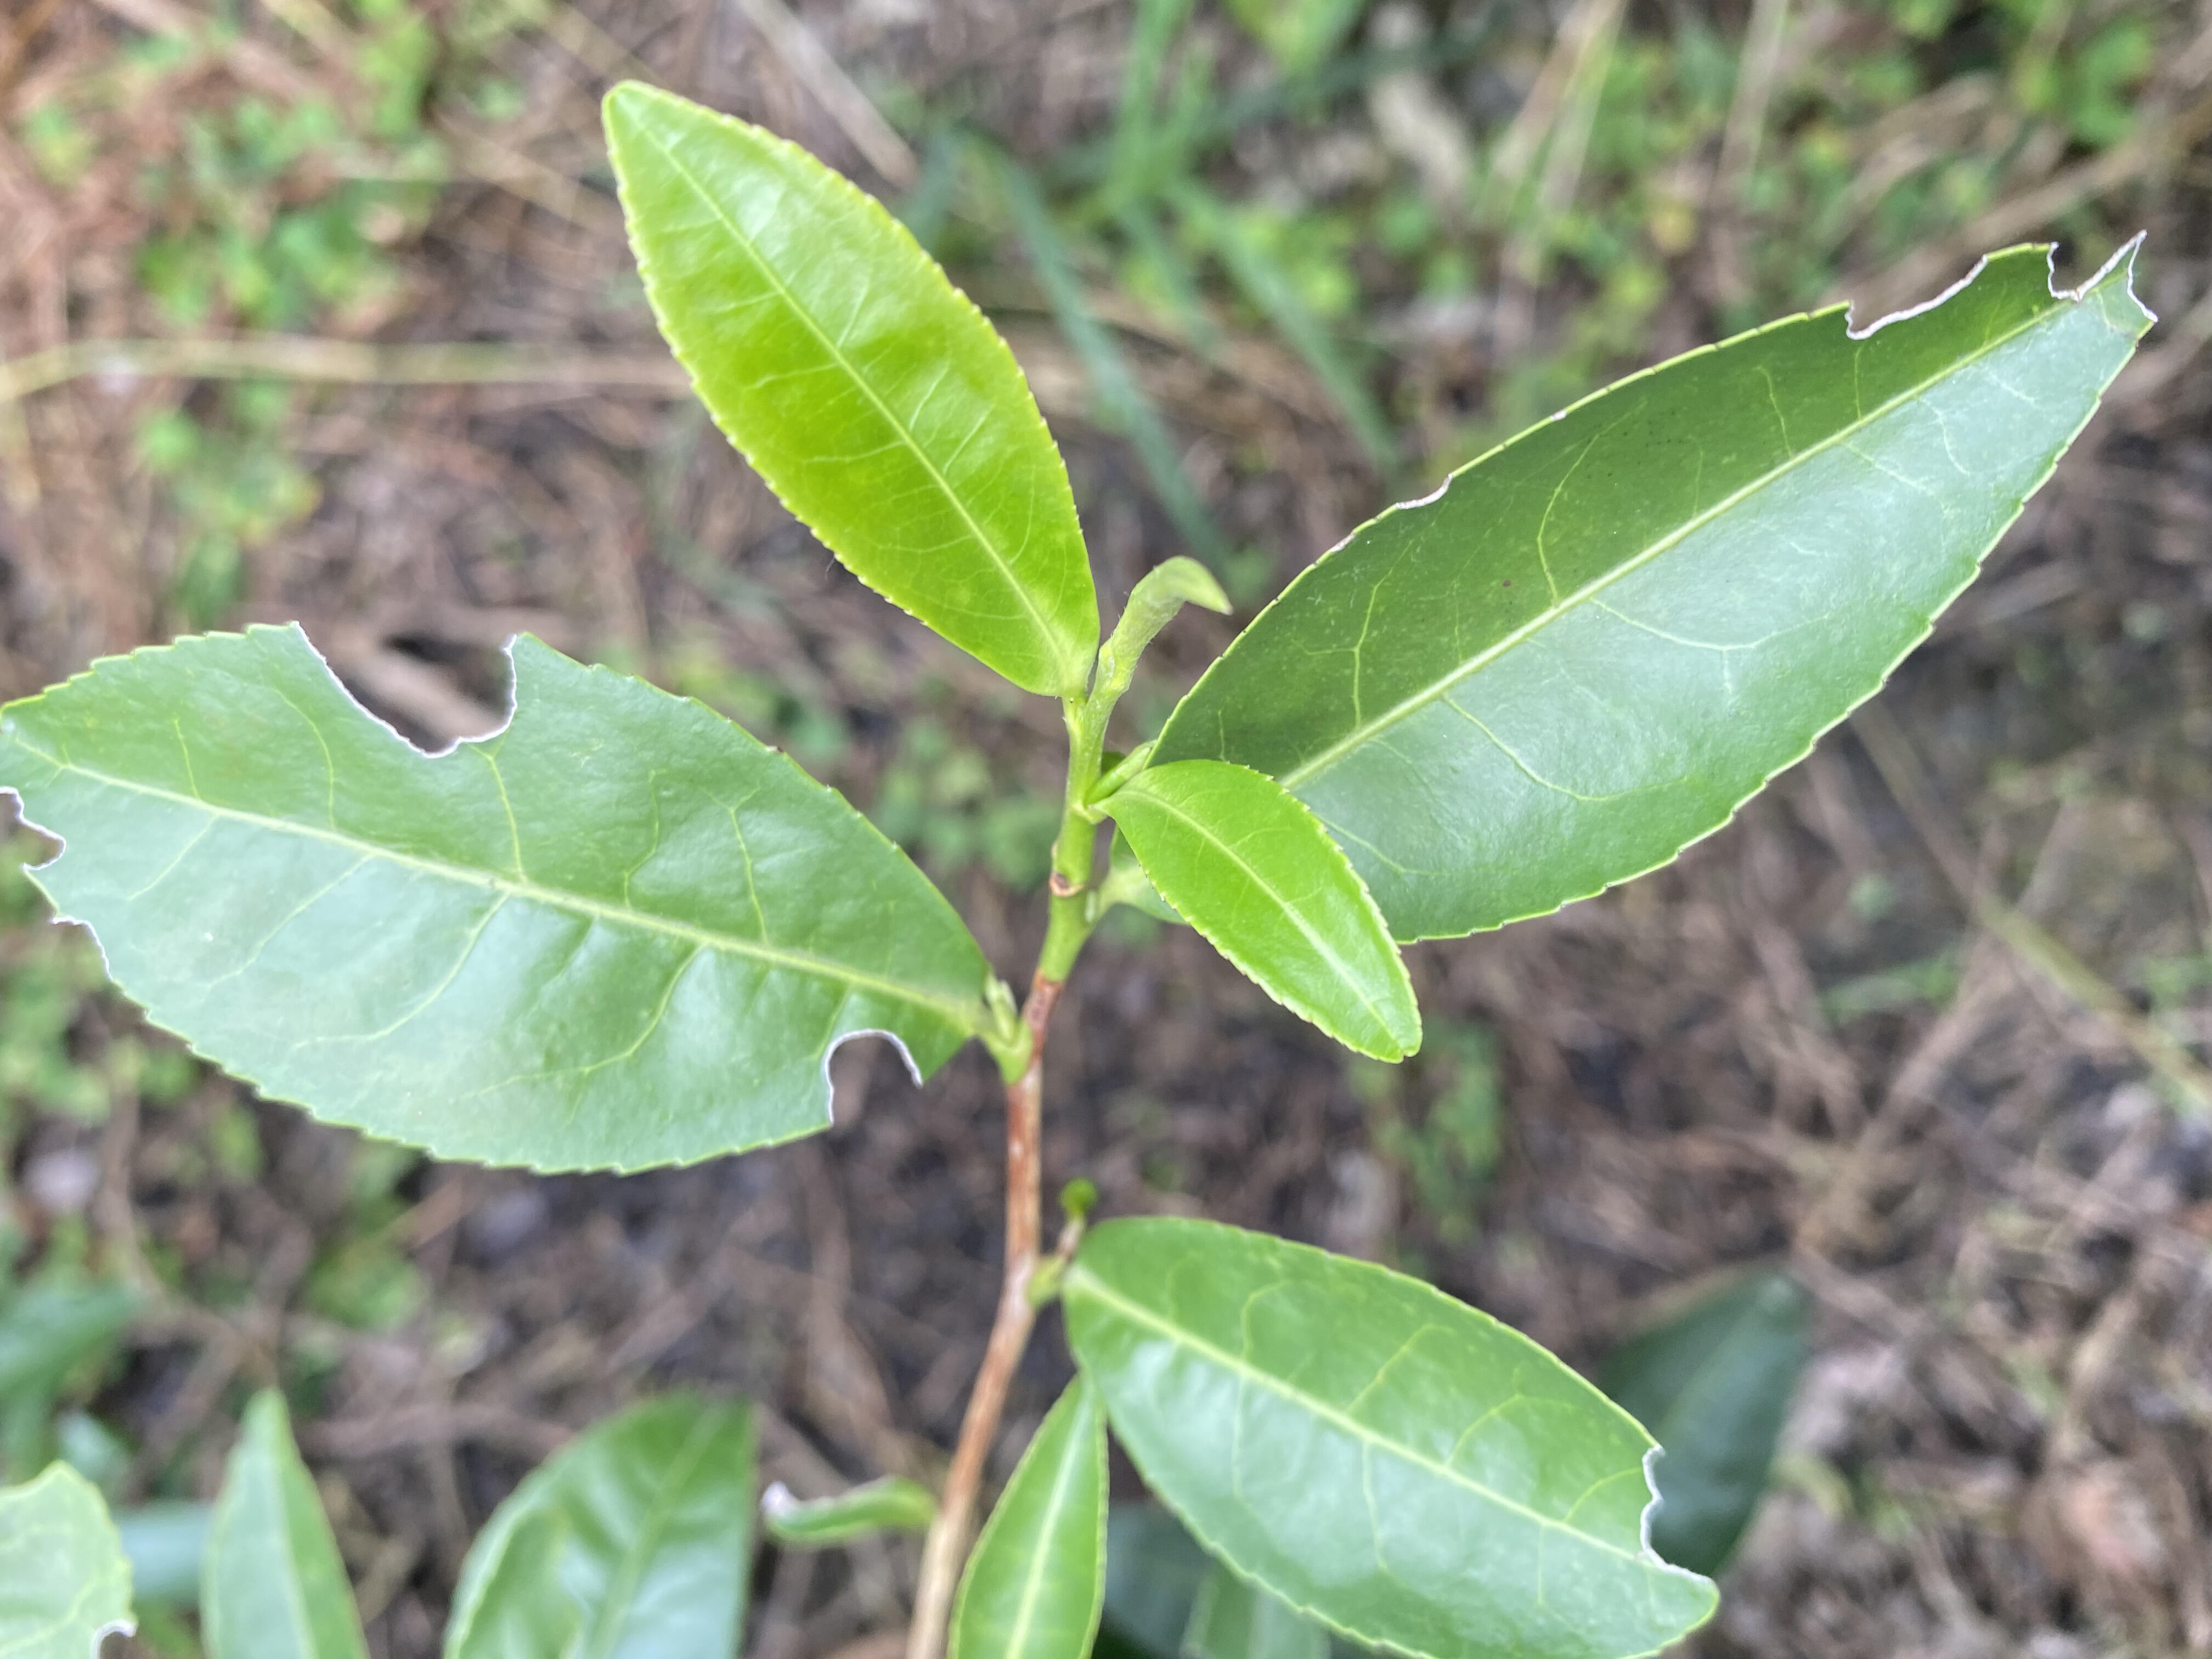chihuo_high: (1144, 230, 2161, 950), (0, 620, 991, 1180)
chihuo_low: (1055, 1213, 1717, 1657)
healthy: (603, 80, 1099, 694), (1113, 756, 1423, 1066)
